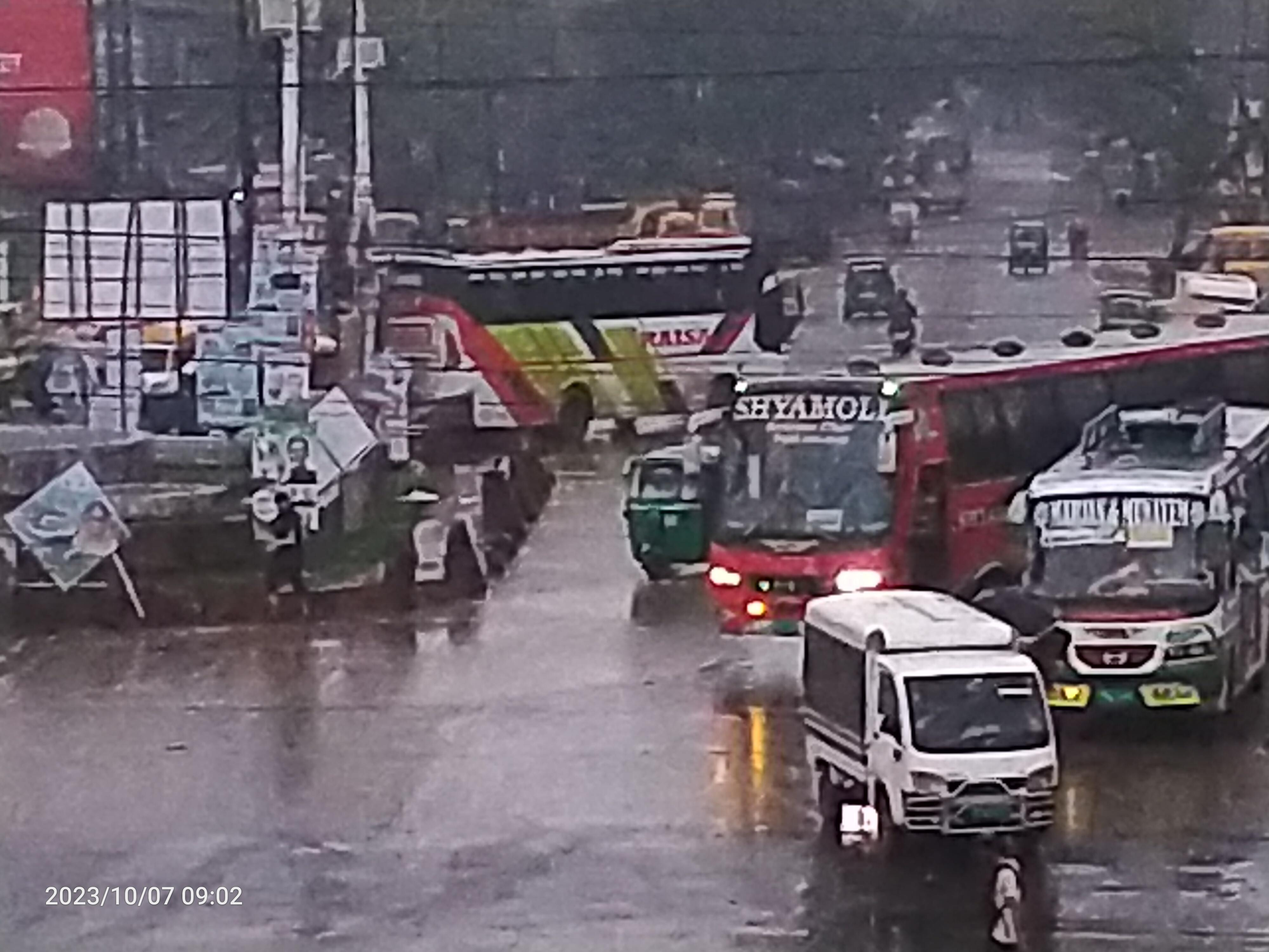Bus: (677, 302, 1269, 669), (332, 208, 822, 459), (986, 384, 1269, 796)
Car: (772, 566, 1106, 885)
